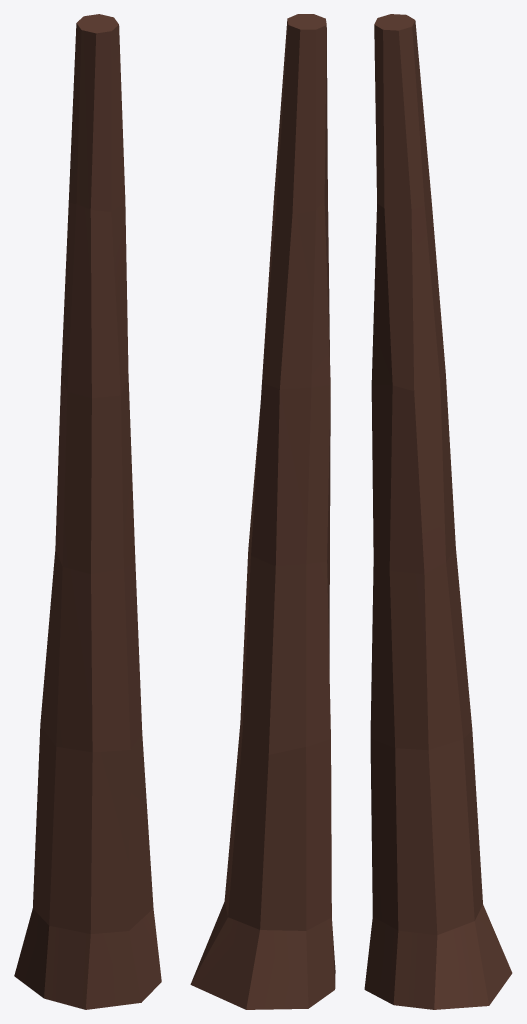
Rendered from Tronco3.glb.
The picture shows the model from 3 angles, left to right: view 1: azimuth 30°, elevation 25°; view 2: azimuth 150°, elevation 25°; view 3: azimuth 270°, elevation 25°; orthographic projection. The views are drawn at different scales.
Parts seen in each view (by area): view 1: Tronco3.007; view 2: Tronco3.007; view 3: Tronco3.007.
Boxes of the visible parts, bbox=[...] form: Tronco3.007: bbox=[14, 14, 161, 1009]; Tronco3.007: bbox=[190, 14, 335, 1009]; Tronco3.007: bbox=[364, 14, 512, 1009].
Bounding box in the file's own units: 0.0997 × 0.7811 × 0.1097.
